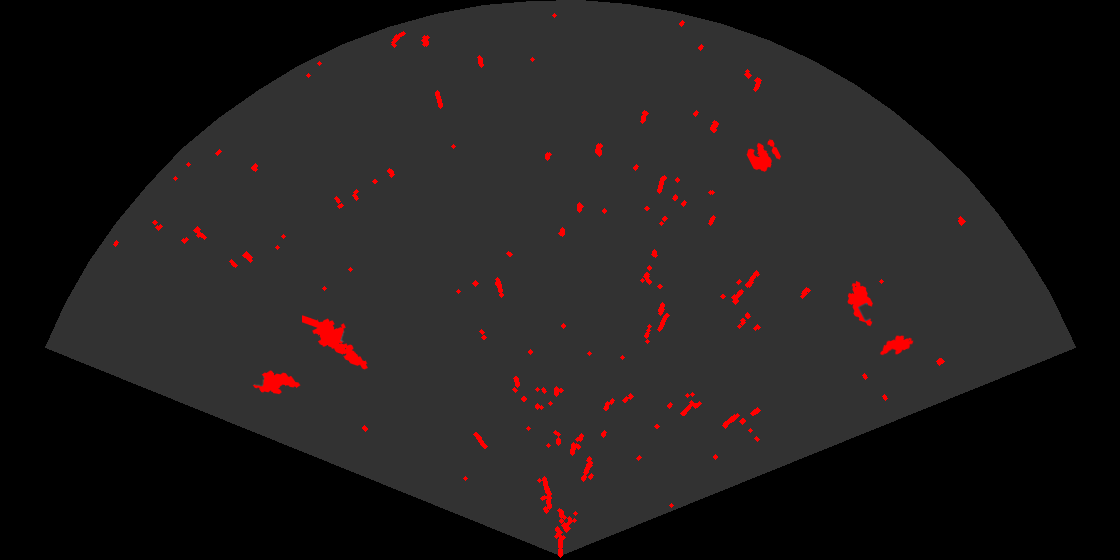AUV: (251, 369, 302, 396), (846, 279, 874, 328), (878, 334, 915, 357)
ball: (745, 138, 783, 173)
frogman: (302, 314, 370, 371)
